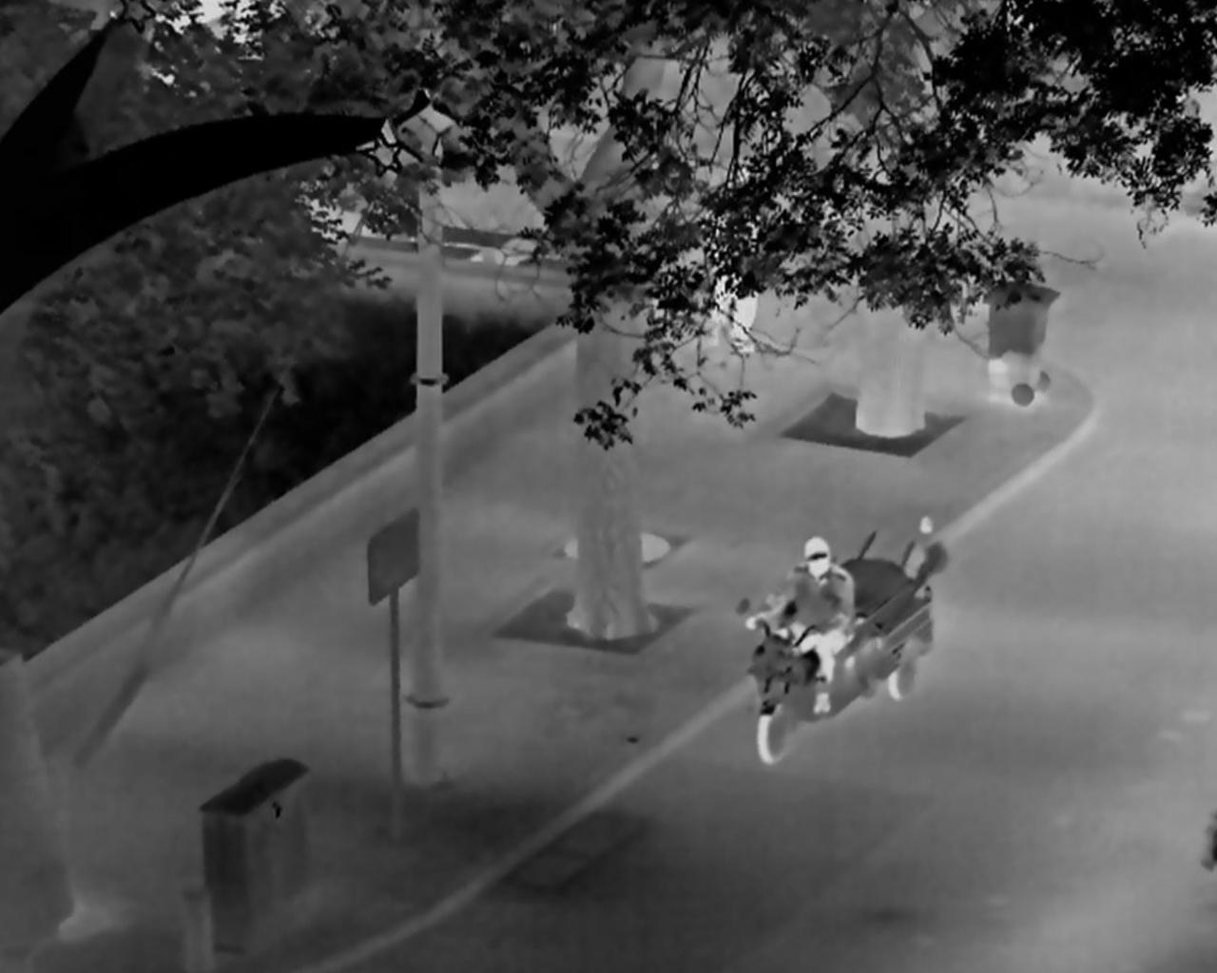person: (744, 534, 850, 715), (702, 164, 768, 351)
